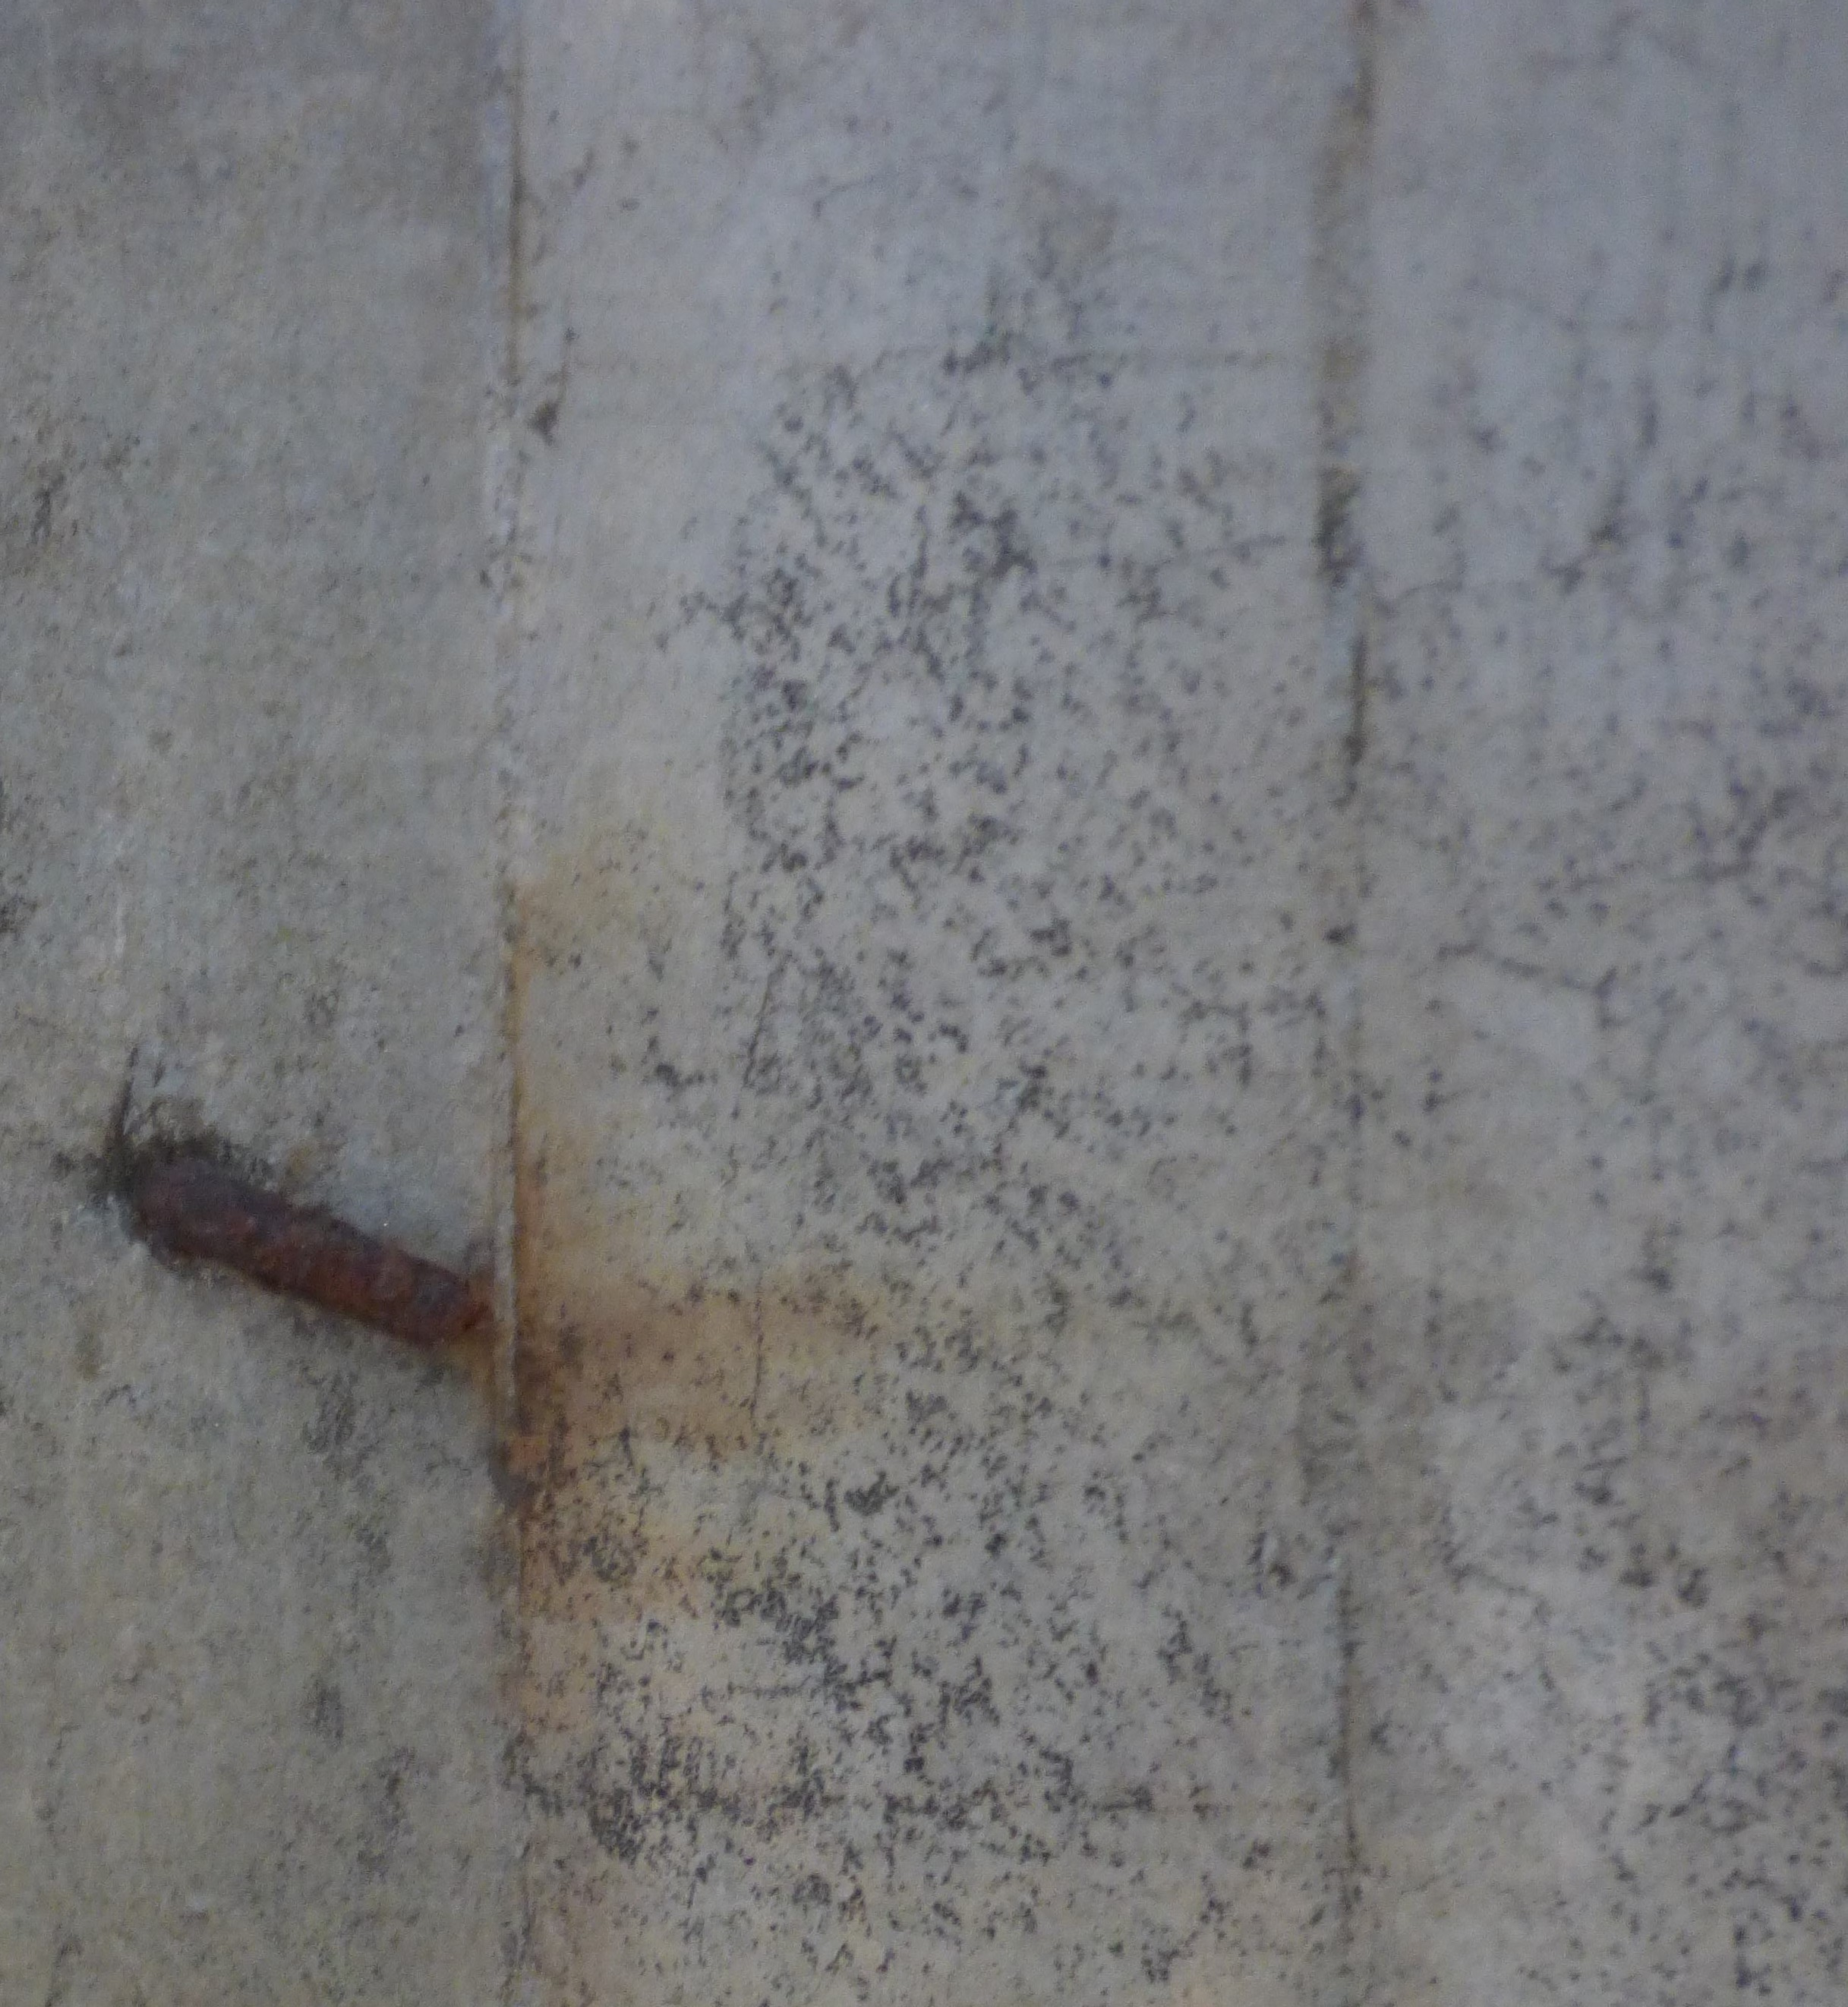Exposed reinforcement: (140, 1154, 486, 1343)
